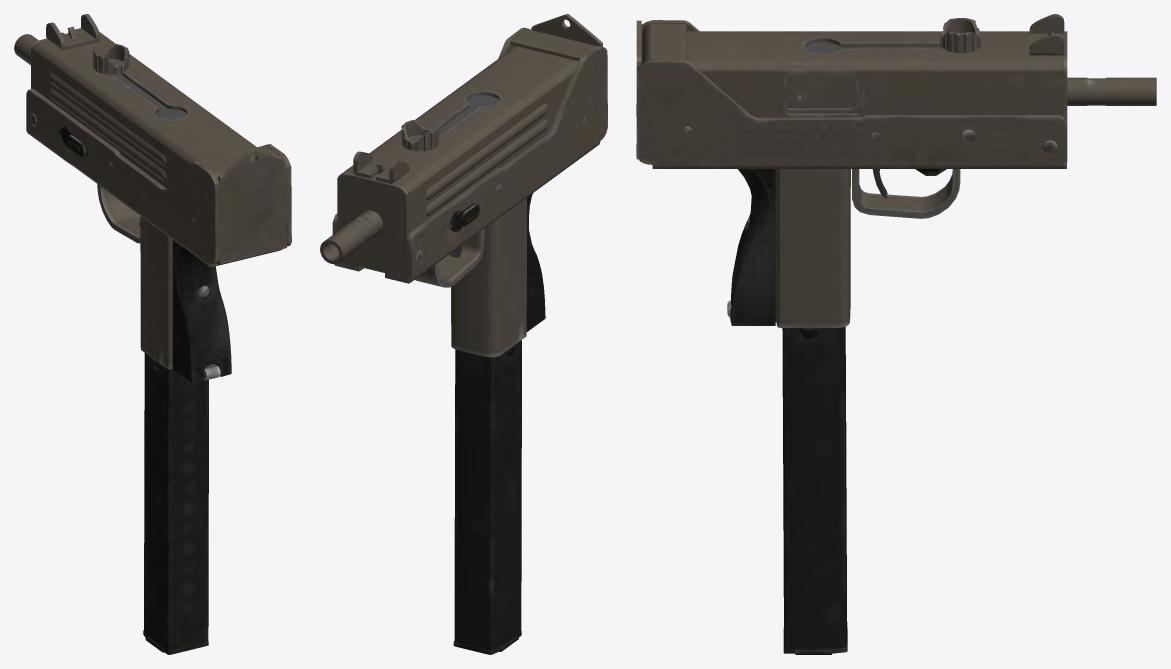
Rendered from g_mac10_lo.glb.
The picture shows the model from 3 angles, left to right: view 1: azimuth 30°, elevation 25°; view 2: azimuth 150°, elevation 25°; view 3: azimuth 270°, elevation 25°; orthographic projection. The views are drawn at different scales.
Visible parts, largest first — view 1: merged; view 2: merged; view 3: merged.
Boxes of the visible parts, x1,y1,x2,y2 form: merged: (14,14,291,654); merged: (320,14,607,654); merged: (636,14,1156,654).
Bounding box in the file's own units: 0.022 × 0.1392 × 0.1053.
1 material, 1 textured.
